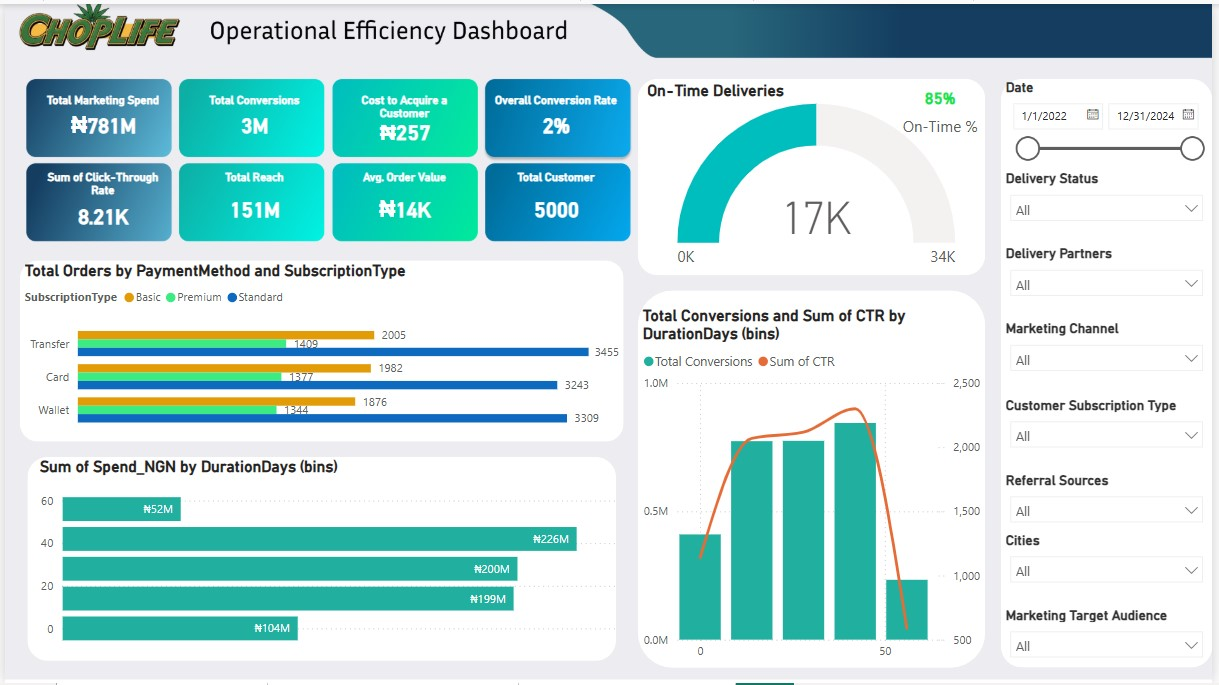

What the dashboard file says about the page in this screenshot:
{"tool":"powerbi","page":{"name":"Operational Dashbaord","canvas":[1280,720],"ordinal":1},"visuals":[{"type":"shape","box":[672,304,368,400],"z":0},{"type":"shape","box":[672,80,368,208],"z":1000},{"type":"shape","box":[16,272,640,192],"z":2000},{"type":"shape","box":[24,480,624,216],"z":3000},{"type":"shape","box":[1056,80,224,624],"z":4000},{"type":"gauge","fields":{"Y":["Time Intelligence Measures.On-Time Deliveries"]},"box":[675.5,81.1,368,208],"z":5000},{"type":"card","title":"Total Marketing Spend","fields":{"Values":["Aggregate Measures.Total Marketing Spend"]},"box":[32,80,144,80],"z":6000},{"type":"card","title":"Cost to Acquire a Customer","fields":{"Values":["Aggregate Measures.CAC"]},"box":[352,80,144,80],"z":7000},{"type":"card","title":"Total Conversions","fields":{"Values":["Aggregate Measures.Total Conversions"]},"box":[192,80,144,80],"z":8000},{"type":"lineStackedColumnComboChart","fields":{"Category":["Marketing.DurationDays (bins)"],"Y":["Aggregate Measures.Total Conversions"],"Y2":["Sum(Marketing.CTR)"]},"box":[672,320,368,384],"z":9000},{"type":"slicer","title":"Date","fields":{"Values":["DimDate.Date"]},"box":[1056,80,224,96],"z":10000},{"type":"slicer","title":"Delivery Status","fields":{"Values":["DimDeliveryStatus.DeliveryStatus"]},"box":[1056,176,224,80],"z":11000},{"type":"slicer","title":"Delivery Partners","fields":{"Values":["DimDeliveryPartner.DeliveryPartner"]},"box":[1056,256,224,80],"z":12000},{"type":"slicer","title":"Marketing Channel","fields":{"Values":["DimChannels.Channel"]},"box":[1056,336,224,80],"z":13000},{"type":"slicer","title":"Customer Subscription Type","fields":{"Values":["DimSubscriptionType.SubscriptionType"]},"box":[1056,416,224,80],"z":14000},{"type":"slicer","title":"Referral Sources","fields":{"Values":["DimReferralSource.ReferralSource"]},"box":[1056,496,224,64],"z":15000},{"type":"slicer","title":"Cities","fields":{"Values":["DimLocation.City"]},"box":[1056,560,224,80],"z":16000},{"type":"slicer","title":"Marketing Target Audience","fields":{"Values":["DimTargetAudience.TargetAudience"]},"box":[1056,640,224,64],"z":17000},{"type":"card","title":"Percentage of On-Time Deliveries","fields":{"Values":["Time Intelligence Measures.On-Time %"]},"box":[944,80,96,64],"z":18000},{"type":"card","title":"Sum of Click-Through Rate","fields":{"Values":["Sum(Marketing.CTR)"]},"box":[32,160,144,96],"z":19000},{"type":"clusteredBarChart","fields":{"Y":["Aggregate Measures.Total Orders"],"Category":["Orders.PaymentMethod"],"Series":["DimSubscriptionType.SubscriptionType"]},"box":[16,272,640,192],"z":20000},{"type":"card","title":"Avg. Order Value","fields":{"Values":["Aggregate Measures.Avg Order Value"]},"box":[352,160,144,96],"z":21000},{"type":"card","title":"Overall Conversion Rate","fields":{"Values":["Aggregate Measures.Overall Conversion Rate"]},"box":[512,80,144,80],"z":22000},{"type":"card","title":"Total Customer","fields":{"Values":["Aggregate Measures.Total Customers"]},"box":[512,160,144,96],"z":23000},{"type":"card","title":"Total Reach","fields":{"Values":["Aggregate Measures.Total Reach"]},"box":[192,160,144,96],"z":24000},{"type":"clusteredBarChart","fields":{"Category":["Marketing.DurationDays (bins)"],"Y":["Sum(Marketing.Spend_NGN)"]},"box":[32,480,624,208],"z":25000}]}

Visuals, with their boxes in screenshot pixels (x1, y1, x2, y2), scaled from the page's 1280x720 canvas onto the 1219x685 screenshot:
shape: [x1=640, y1=289, x2=990, y2=670]
shape: [x1=640, y1=76, x2=990, y2=274]
shape: [x1=15, y1=259, x2=625, y2=441]
shape: [x1=23, y1=457, x2=617, y2=662]
shape: [x1=1006, y1=76, x2=1218, y2=670]
gauge - Time Intelligence Measures.On-Time Deliveries: [x1=643, y1=77, x2=994, y2=275]
"Total Marketing Spend" card: [x1=30, y1=76, x2=168, y2=152]
"Cost to Acquire a Customer" card: [x1=335, y1=76, x2=472, y2=152]
"Total Conversions" card: [x1=183, y1=76, x2=320, y2=152]
lineStackedColumnComboChart - Marketing.DurationDays (bins) x Aggregate Measures.Total Conversions: [x1=640, y1=304, x2=990, y2=670]
"Date" slicer: [x1=1006, y1=76, x2=1218, y2=167]
"Delivery Status" slicer: [x1=1006, y1=167, x2=1218, y2=244]
"Delivery Partners" slicer: [x1=1006, y1=244, x2=1218, y2=320]
"Marketing Channel" slicer: [x1=1006, y1=320, x2=1218, y2=396]
"Customer Subscription Type" slicer: [x1=1006, y1=396, x2=1218, y2=472]
"Referral Sources" slicer: [x1=1006, y1=472, x2=1218, y2=533]
"Cities" slicer: [x1=1006, y1=533, x2=1218, y2=609]
"Marketing Target Audience" slicer: [x1=1006, y1=609, x2=1218, y2=670]
"Percentage of On-Time Deliveries" card: [x1=899, y1=76, x2=990, y2=137]
"Sum of Click-Through Rate" card: [x1=30, y1=152, x2=168, y2=244]
clusteredBarChart - Aggregate Measures.Total Orders x Orders.PaymentMethod: [x1=15, y1=259, x2=625, y2=441]
"Avg. Order Value" card: [x1=335, y1=152, x2=472, y2=244]
"Overall Conversion Rate" card: [x1=488, y1=76, x2=625, y2=152]
"Total Customer" card: [x1=488, y1=152, x2=625, y2=244]
"Total Reach" card: [x1=183, y1=152, x2=320, y2=244]
clusteredBarChart - Marketing.DurationDays (bins) x Sum(Marketing.Spend_NGN): [x1=30, y1=457, x2=625, y2=655]
